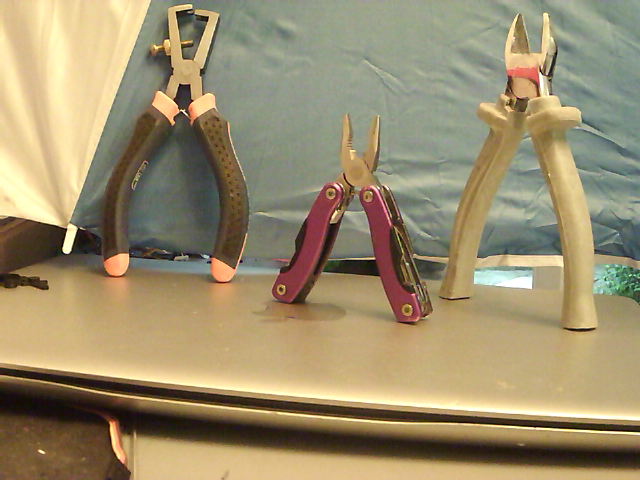pliers: (434, 10, 606, 333), (269, 100, 434, 329)
